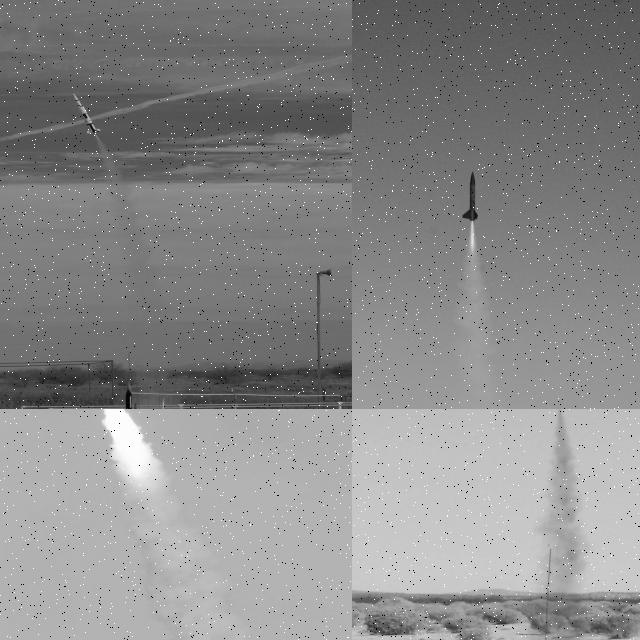Rocket: (72, 92, 101, 134), (462, 171, 480, 222), (123, 381, 139, 409), (159, 398, 170, 409), (130, 401, 139, 409)
